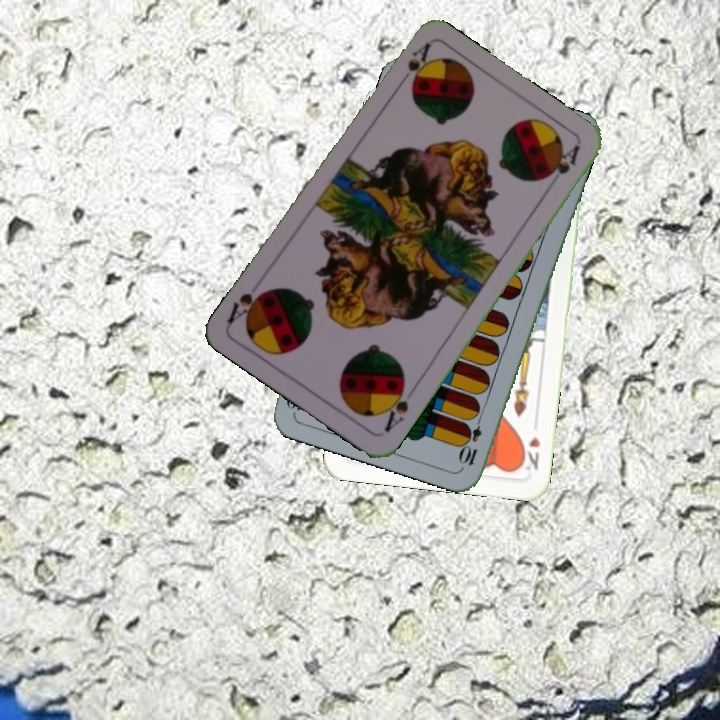E10: (457, 409, 485, 468)
HK: (516, 432, 542, 474)
SA: (392, 40, 433, 91), (379, 378, 411, 435)
